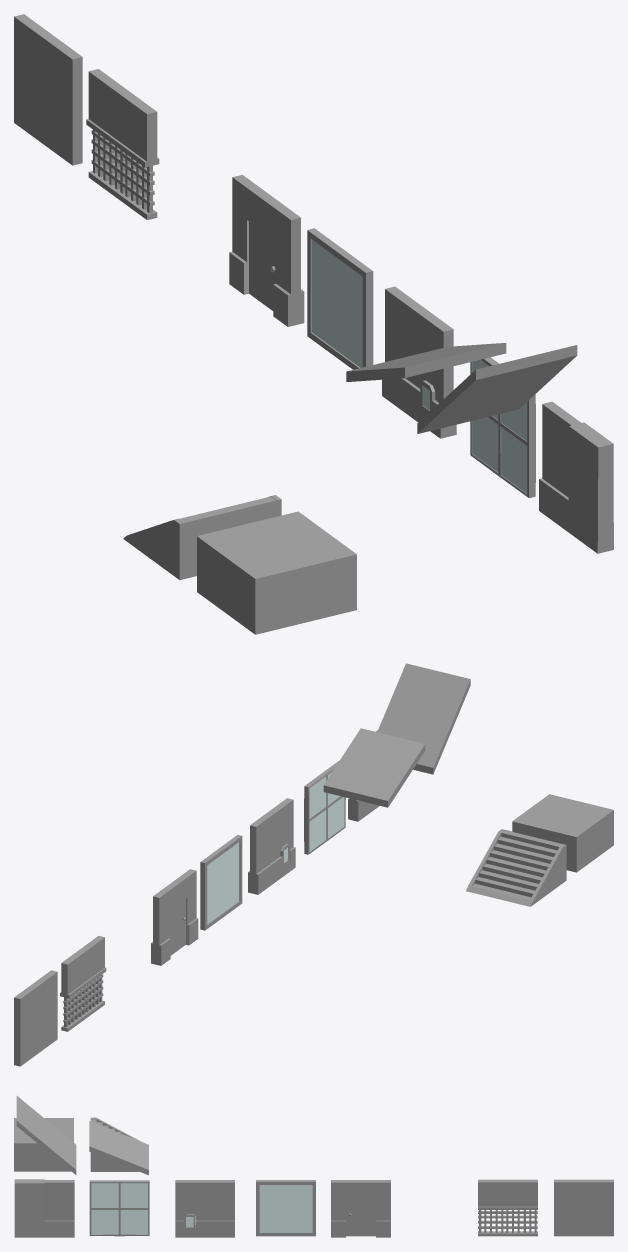
The model's file is BoatPieces.fbx.
3 views of the same model, one above another, from view 1: azimuth 30°, elevation 25°; view 2: azimuth 150°, elevation 25°; view 3: azimuth 270°, elevation 25° (orthographic). The views are drawn at different scales.
Visible parts, largest first — view 1: pCube96, pCube53, pCube94, pCube89, polySurface47, polySurface50, polySurface52, pCube91, pPlane1, polySurface53, pCube90, pCube59; view 2: pCube91, pPlane1, pCube90, pCube96, polySurface52, pCube94, pCube89, polySurface47, polySurface50, polySurface53, pCube59; view 3: pCube53, pCube94, polySurface52, polySurface53, polySurface47, pCube89, polySurface50, pCube91, pCube90, pCube96, pCube59, pPlane1.
Boxes of the visible parts, x1,y1,x2,y2 form: pCube96: [197, 511, 356, 634]; pCube53: [539, 401, 613, 553]; pCube94: [14, 14, 82, 165]; pCube89: [86, 69, 159, 219]; polySurface47: [307, 228, 373, 369]; polySurface50: [229, 175, 304, 326]; polySurface52: [382, 286, 456, 438]; pCube91: [417, 345, 577, 433]; pPlane1: [123, 495, 281, 579]; polySurface53: [470, 357, 535, 498]; pCube90: [346, 343, 506, 381]; pCube59: [249, 221, 276, 310]; pCube91: [377, 663, 470, 774]; pPlane1: [466, 829, 566, 906]; pCube90: [323, 728, 425, 807]; pCube96: [512, 794, 613, 872]; polySurface52: [248, 798, 295, 894]; pCube94: [14, 970, 57, 1066]; pCube89: [60, 935, 106, 1031]; polySurface47: [200, 835, 242, 930]; polySurface50: [151, 869, 198, 965]; polySurface53: [304, 760, 345, 854]; pCube59: [168, 899, 185, 955]; pCube53: [14, 1179, 74, 1237]; pCube94: [554, 1179, 613, 1236]; polySurface52: [175, 1180, 234, 1237]; polySurface53: [89, 1180, 149, 1236]; polySurface47: [256, 1180, 315, 1236]; pCube89: [478, 1179, 537, 1236]; polySurface50: [331, 1180, 390, 1237]; pCube91: [16, 1096, 76, 1174]; pCube90: [89, 1121, 148, 1175]; pCube96: [14, 1118, 73, 1171]; pCube59: [346, 1199, 375, 1236]; pPlane1: [90, 1117, 140, 1171].
Bounding box in the file's own units: 17.73 × 9.99 × 50.13.
